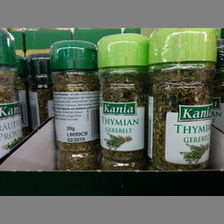spices: (148, 28, 216, 170), (96, 34, 148, 170), (51, 40, 99, 169)
